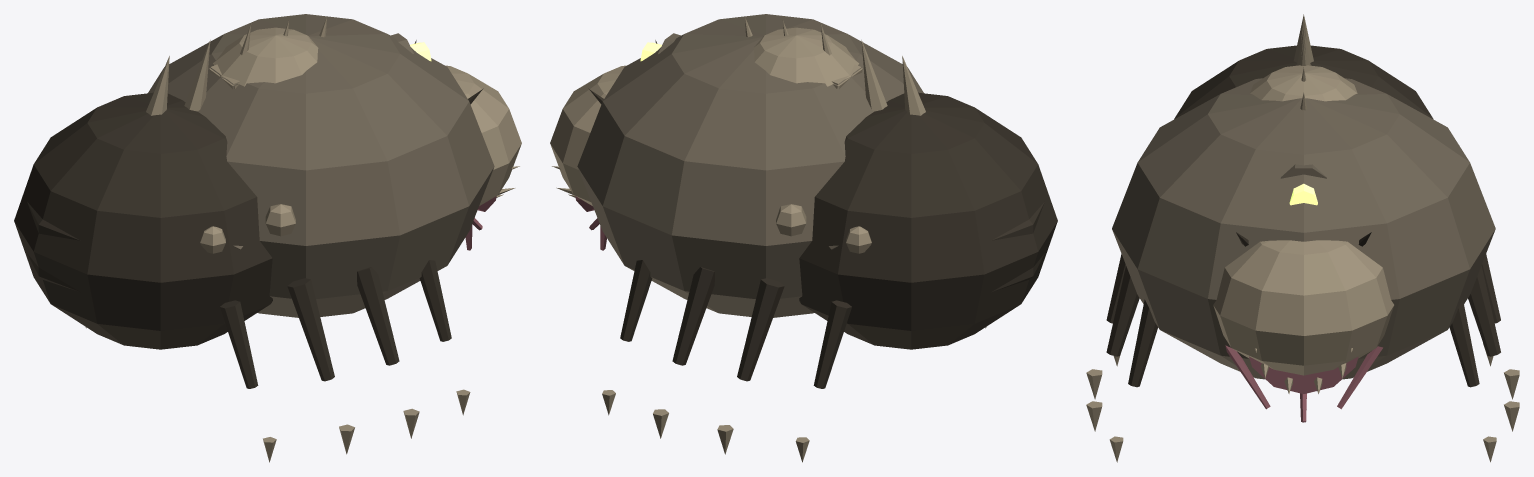
The model's file is bl_hive.glb.
3 views of the same model, side by side, from view 1: azimuth 30°, elevation 25°; view 2: azimuth 150°, elevation 25°; view 3: azimuth 270°, elevation 25° (orthographic).
Visible parts, largest first — view 1: body, turret, leg_3_b, leg_1_a, leg_5_a, leg_7_b; view 2: body, turret, leg_2_a, leg_0_b, leg_4_b, leg_6_a; view 3: body, turret, leg_5_a, leg_4_b, leg_6_a, leg_7_b, leg_3_b, leg_2_a.
Part boxes in pixels (<box>): body: <box>14,14,521,349</box>; turret: <box>209,27,431,88</box>; leg_3_b: <box>265,204,354,454</box>; leg_1_a: <box>200,226,276,462</box>; leg_5_a: <box>357,267,419,438</box>; leg_7_b: <box>419,260,470,415</box>; body: <box>550,14,1057,349</box>; turret: <box>640,27,862,88</box>; leg_2_a: <box>717,204,806,454</box>; leg_0_b: <box>795,226,871,462</box>; leg_4_b: <box>653,267,714,438</box>; leg_6_a: <box>602,260,652,415</box>; body: <box>1112,14,1495,422</box>; turret: <box>1250,65,1357,205</box>; leg_5_a: <box>1086,266,1139,431</box>; leg_4_b: <box>1468,266,1519,431</box>; leg_6_a: <box>1449,299,1496,462</box>; leg_7_b: <box>1109,299,1157,462</box>; leg_3_b: <box>1086,254,1125,399</box>; leg_2_a: <box>1481,254,1519,399</box>.
Size of the model in its own units: 62.88 by 44.88 by 48.77.
